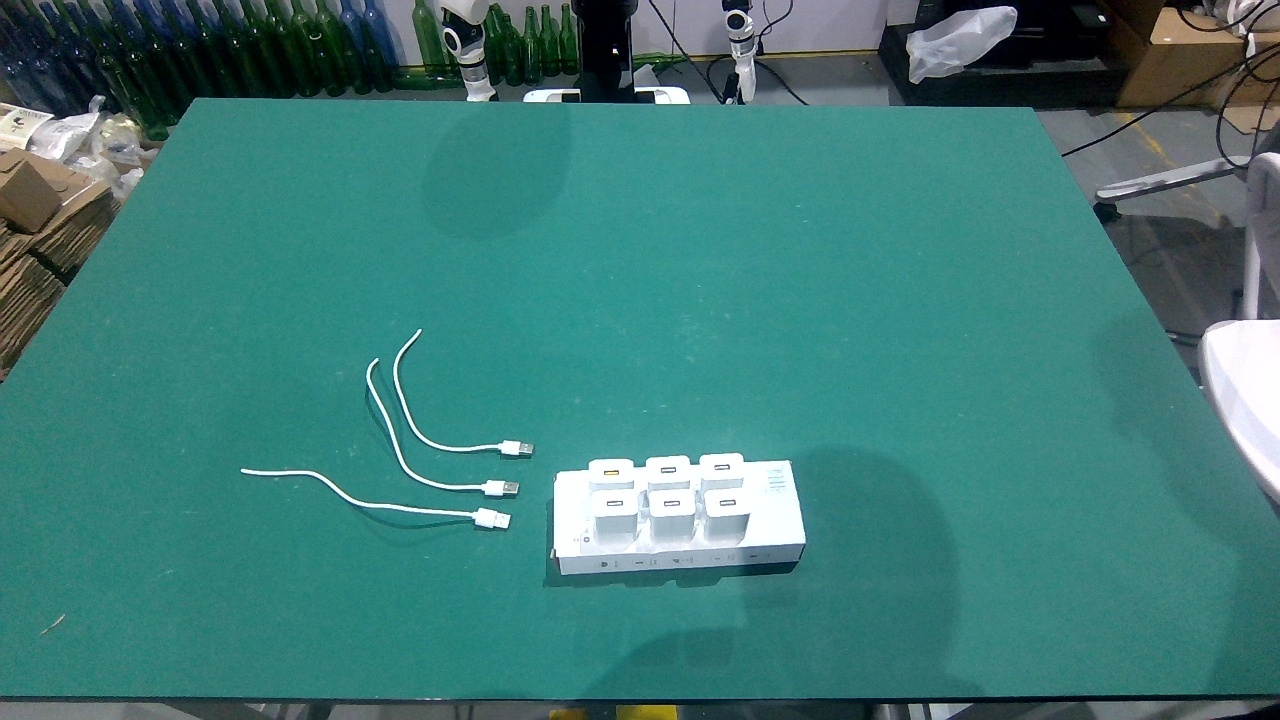usb_a_port: (710, 462, 735, 474), (716, 496, 738, 509), (661, 499, 685, 509), (658, 465, 680, 475), (602, 467, 621, 478), (606, 497, 625, 508)
